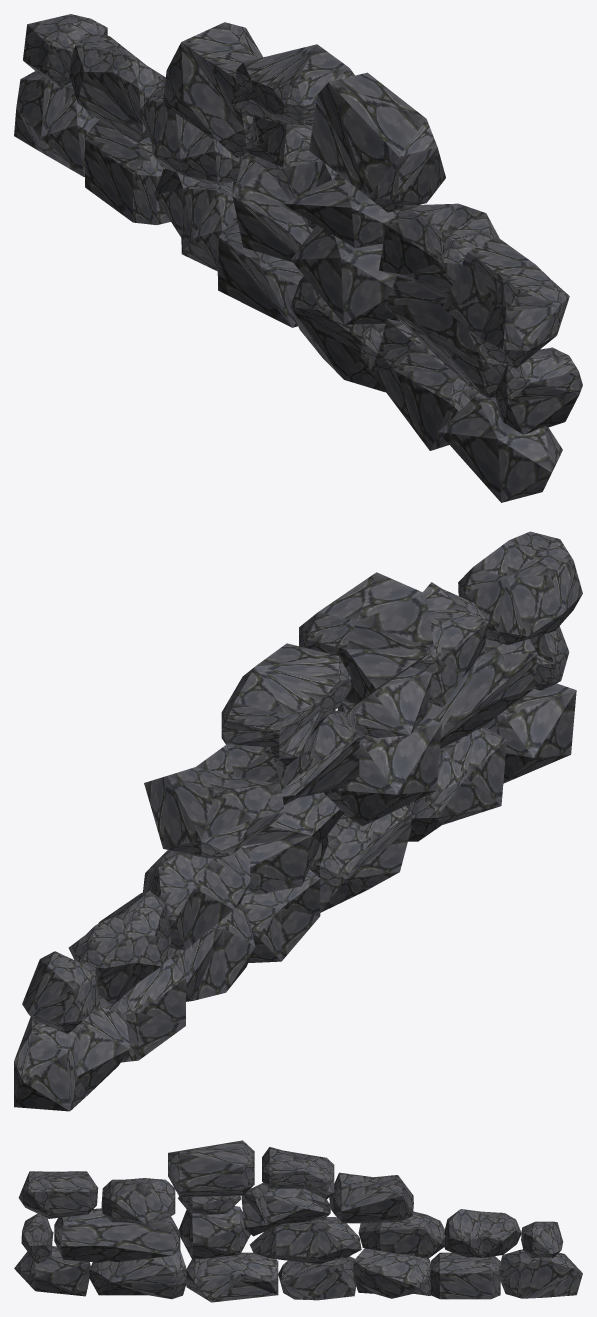
File: stenmur.fbx
The picture shows the model from 3 angles, top to bottom: view 1: azimuth 30°, elevation 25°; view 2: azimuth 150°, elevation 25°; view 3: azimuth 270°, elevation 25°; orthographic projection. The views are drawn at different scales.
Visible parts, largest first — view 1: Fense_4_stone_1; view 2: Fense_4_stone_1; view 3: Fense_4_stone_1.
Part boxes in pixels (x1=…): Fense_4_stone_1: x1=14, y1=14, x2=582, y2=502; Fense_4_stone_1: x1=14, y1=531, x2=582, y2=1111; Fense_4_stone_1: x1=14, y1=1140, x2=582, y2=1302.
Bounding box in the file's own units: 20.55 × 45.84 × 162.
